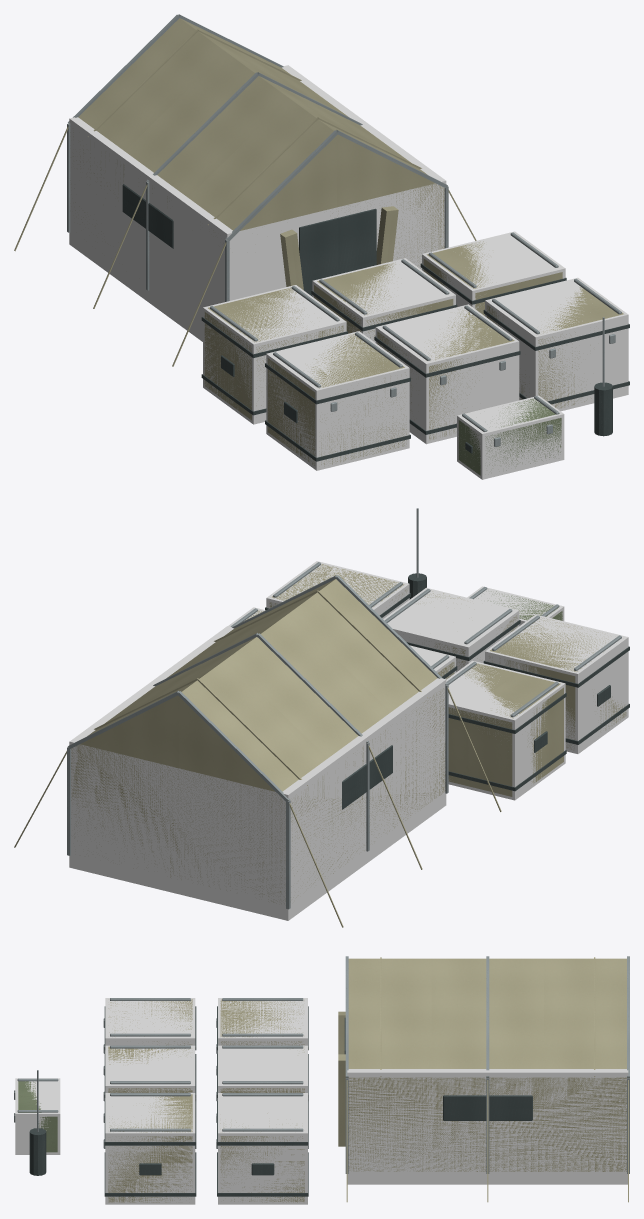
The model's file is SmugglerCache.fbx.
3 renders of one model, top to bottom at view 1: azimuth 30°, elevation 25°; view 2: azimuth 150°, elevation 25°; view 3: azimuth 270°, elevation 25°, orthographic. The views are drawn at different scales.
Visible parts, largest first — view 1: LOD0, COL_Static; view 2: LOD0, COL_Static; view 3: LOD0, COL_Static.
Part boxes in pixels (x1,y1,x2,y2): LOD0: (14, 14, 629, 475); COL_Static: (69, 65, 628, 479); LOD0: (14, 508, 629, 927); COL_Static: (69, 561, 628, 920); LOD0: (14, 956, 629, 1202); COL_Static: (15, 998, 628, 1204).
Size of what is drawn, in the model's own units: 602 by 354 by 1095.
